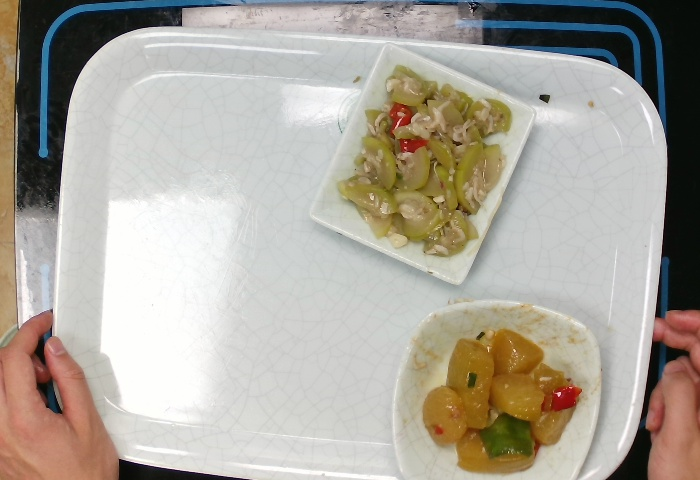WCQzf-Da_Si_Fang_Die: (388, 296, 606, 480)
WCQzf-Ru_Ci_Si_Fang_Die: (299, 40, 542, 289)
